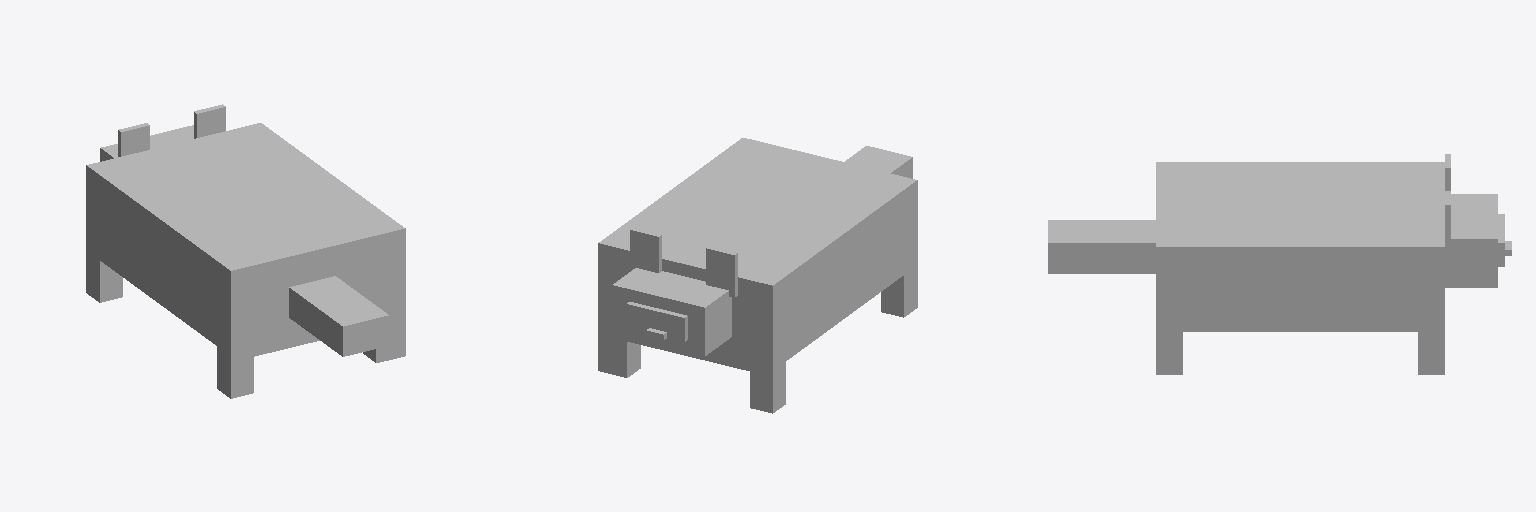
File: Raccoon New.obj
The picture shows the model from 3 angles: view 1: azimuth 30°, elevation 25°; view 2: azimuth 150°, elevation 25°; view 3: azimuth 270°, elevation 25°; orthographic projection.
Parts seen in each view (by area): view 1: Raccoon; view 2: Raccoon; view 3: Raccoon.
Boxes of the visible parts, x1,y1,x2,y2 form: Raccoon: [86, 104, 405, 398]; Raccoon: [598, 138, 917, 413]; Raccoon: [1048, 154, 1511, 374].
Size of the model in its own units: 3 by 2.5 by 6.9.